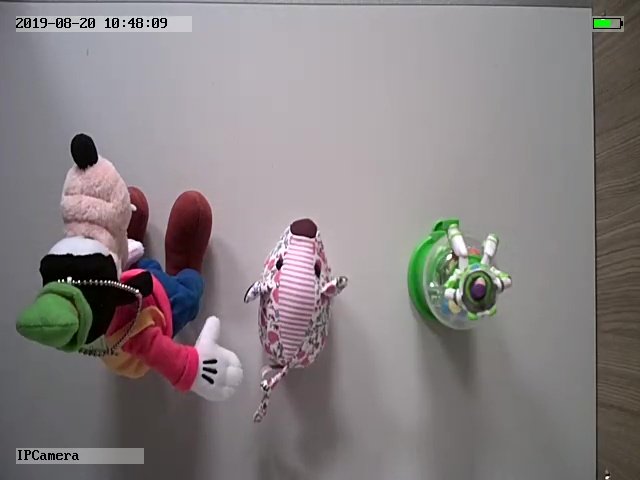buzz: (403, 216, 515, 334)
goofy: (15, 133, 243, 404)
pig: (244, 215, 352, 424)
